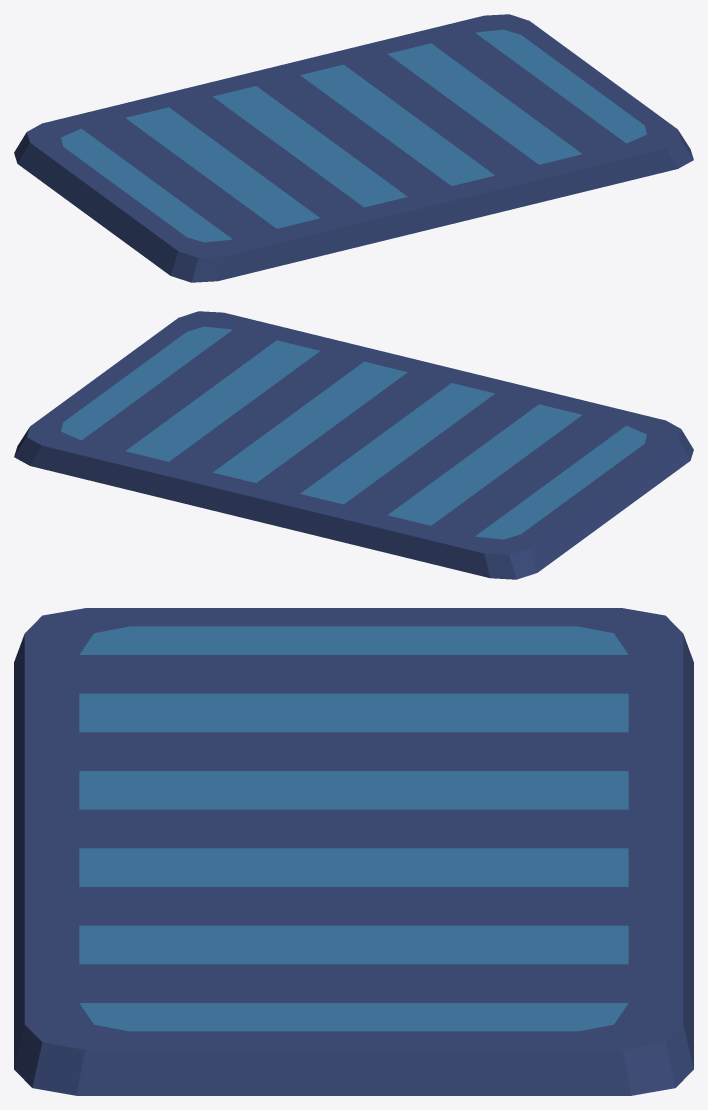
Rendered from furniture_mat-bathroom.fbx.
The picture shows the model from 3 angles, top to bottom: view 1: azimuth 30°, elevation 25°; view 2: azimuth 150°, elevation 25°; view 3: azimuth 270°, elevation 25°; orthographic projection. The views are drawn at different scales.
Parts seen in each view (by area): view 1: furniture_mat_bathroom; view 2: furniture_mat_bathroom; view 3: furniture_mat_bathroom.
Boxes of the visible parts, x1=… form: furniture_mat_bathroom: x1=14, y1=14, x2=693, y2=282; furniture_mat_bathroom: x1=14, y1=311, x2=693, y2=579; furniture_mat_bathroom: x1=14, y1=608, x2=693, y2=1095.
Bounding box in the file's own units: 200 × 7.5 × 125.
